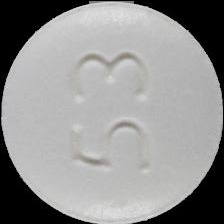50090-0913: (0, 0, 224, 224)
